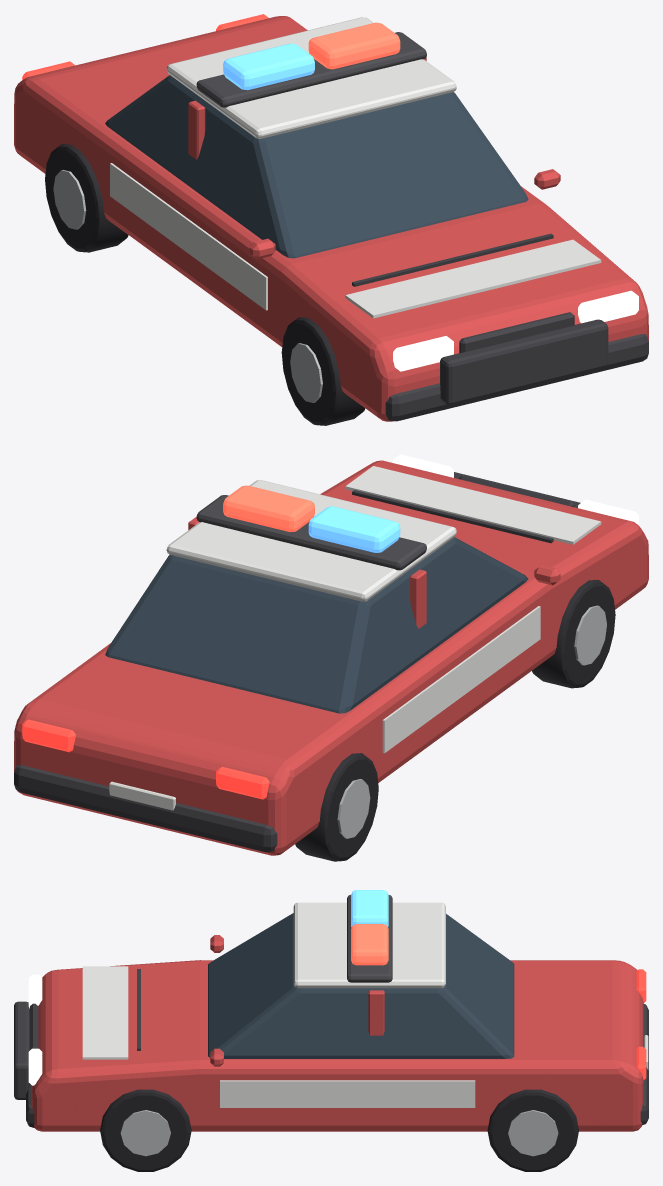
Rendered from police.glb.
3 renders of one model, top to bottom at view 1: azimuth 30°, elevation 25°; view 2: azimuth 150°, elevation 25°; view 3: azimuth 270°, elevation 25°, orthographic. The views are drawn at different scales.
Visible parts, largest first — view 1: Body.008, Cabin.005, Roof.005, PushBar, HoodBand, DoorBand-1, Tyre0L.006, Tyre1L.006, Bar, BumperF.006, LightR, LightB (+7 smaller); view 2: Body.008, Cabin.005, Roof.005, HoodBand, BumperR.006, DoorBand-1, Tyre0L.006, Tyre1L.006, Bar, LightB, LightR, Rim0L.006 (+9 smaller); view 3: Body.008, Cabin.005, Roof.005, DoorBand1, HoodBand, Tyre1R.006, Tyre0R.006, Rim1R.006, Rim0R.006, LightR, PushBar, Bar (+5 smaller).
Part boxes in pixels (bbox=[...]): Body.008: bbox=[14, 16, 648, 421]; Cabin.005: bbox=[105, 75, 528, 258]; Roof.005: bbox=[166, 17, 456, 138]; PushBar: bbox=[440, 319, 608, 405]; HoodBand: bbox=[345, 239, 601, 318]; DoorBand-1: bbox=[110, 163, 267, 310]; Tyre0L.006: bbox=[281, 317, 365, 425]; Tyre1L.006: bbox=[45, 144, 128, 252]; Bar: bbox=[196, 32, 426, 107]; BumperF.006: bbox=[385, 334, 648, 421]; LightR: bbox=[308, 22, 400, 69]; LightB: bbox=[223, 43, 314, 90]; Body.008: bbox=[14, 460, 648, 855]; Cabin.005: bbox=[105, 537, 528, 713]; Roof.005: bbox=[166, 480, 456, 601]; HoodBand: bbox=[345, 466, 601, 544]; BumperR.006: bbox=[14, 765, 277, 852]; DoorBand-1: bbox=[382, 606, 540, 753]; Tyre0L.006: bbox=[532, 579, 615, 688]; Tyre1L.006: bbox=[295, 753, 378, 861]; Bar: bbox=[196, 495, 426, 570]; LightB: bbox=[308, 506, 400, 552]; LightR: bbox=[223, 485, 314, 531]; Rim0L.006: bbox=[574, 605, 606, 665]; Body.008: bbox=[31, 960, 643, 1131]; Cabin.005: bbox=[208, 913, 514, 1058]; Roof.005: bbox=[293, 902, 445, 988]; DoorBand1: bbox=[220, 1080, 475, 1107]; HoodBand: bbox=[82, 966, 128, 1059]; Tyre1R.006: bbox=[487, 1089, 578, 1171]; Tyre0R.006: bbox=[100, 1089, 191, 1171]; Rim1R.006: bbox=[508, 1110, 558, 1156]; Rim0R.006: bbox=[120, 1110, 170, 1156]; LightR: bbox=[351, 924, 388, 965]; PushBar: bbox=[14, 1001, 29, 1099]; Bar: bbox=[347, 895, 392, 982].
Size of the model in its own units: 2.16 by 1.62 by 4.72.
